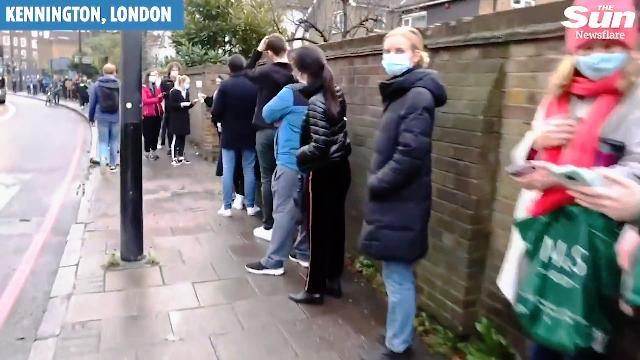berdiri: (354, 24, 458, 360), (280, 44, 360, 314), (212, 51, 268, 227), (166, 59, 196, 174)
